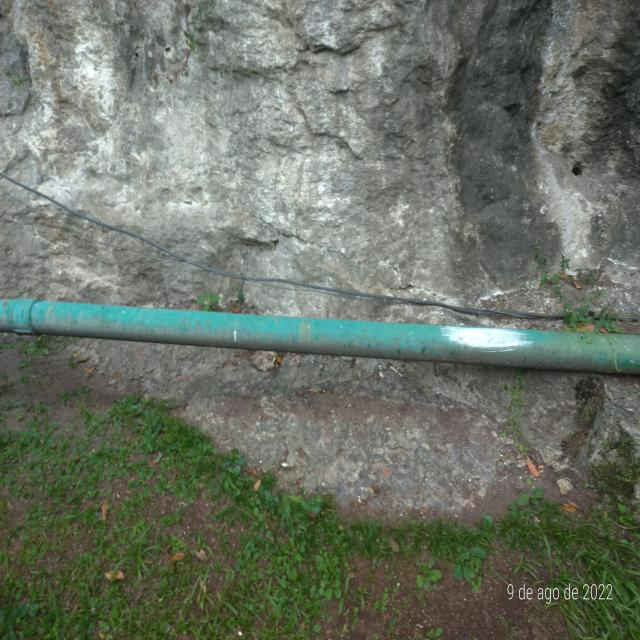gas: (14, 299, 616, 372)
